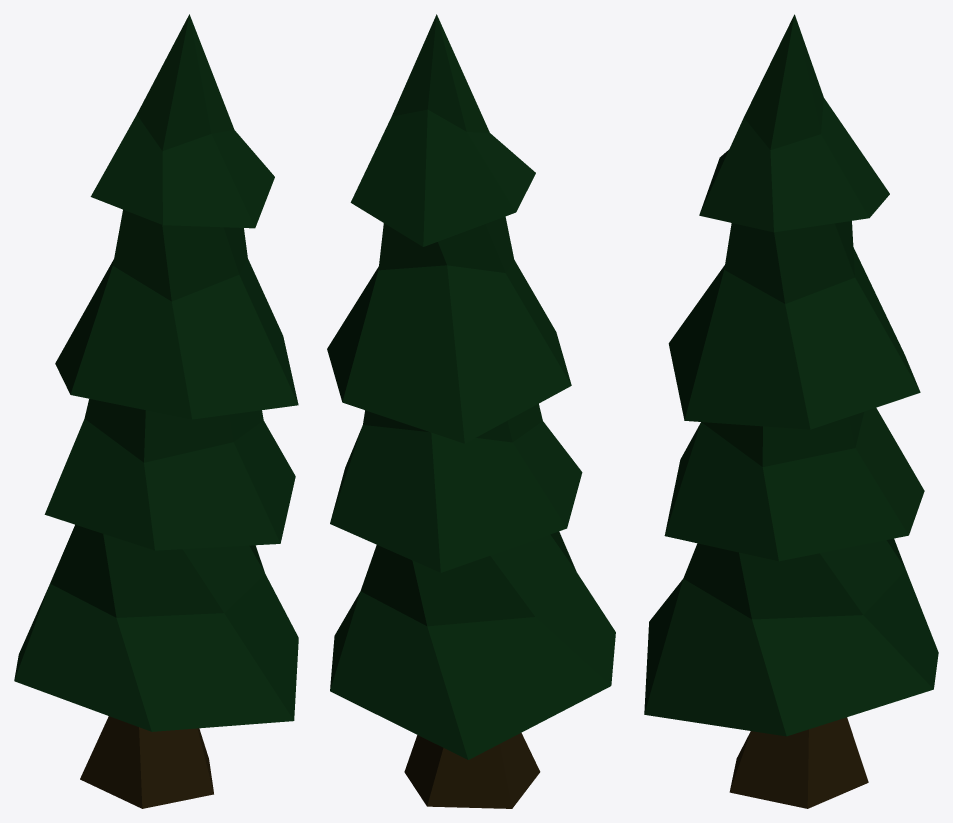
File: tree10.fbx
3 renders of one model, left to right at view 1: azimuth 30°, elevation 25°; view 2: azimuth 150°, elevation 25°; view 3: azimuth 270°, elevation 25°, orthographic. The views are drawn at different scales.
Visible parts, largest first — view 1: SpruceTree3_LOD0; view 2: SpruceTree3_LOD0; view 3: SpruceTree3_LOD0.
Part boxes in pixels (left/top/right/bottom): SpruceTree3_LOD0: left=14, top=14, right=298, bottom=808; SpruceTree3_LOD0: left=327, top=14, right=615, bottom=808; SpruceTree3_LOD0: left=644, top=14, right=938, bottom=808.
Size of what is drawn, in the model's own units: 525 by 1355 by 462.
